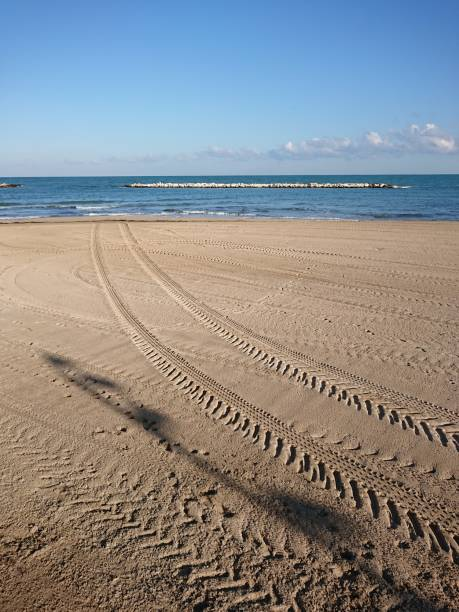vehicle_track: (91, 224, 458, 560), (122, 223, 458, 450), (176, 239, 324, 263)
